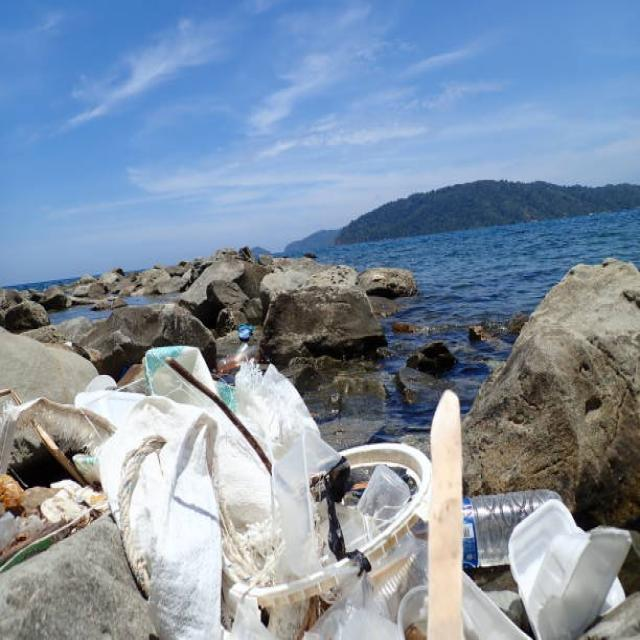plastic: (125, 374, 615, 610)
